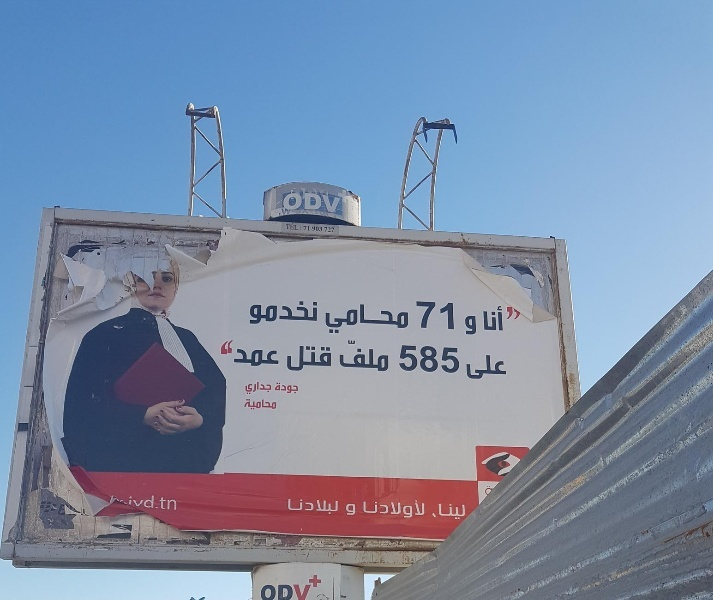text: (353, 340, 368, 373), (369, 340, 384, 373), (417, 301, 432, 331), (433, 301, 448, 331), (337, 304, 352, 334), (353, 304, 368, 334), (369, 304, 384, 334), (385, 304, 400, 334), (401, 345, 416, 375), (417, 345, 432, 375), (433, 345, 448, 375), (225, 339, 240, 368), (241, 339, 256, 368), (257, 339, 272, 368), (339, 340, 352, 373), (289, 345, 304, 372), (305, 345, 320, 372), (497, 306, 512, 332), (257, 301, 272, 326), (273, 301, 288, 326), (289, 301, 304, 326), (481, 355, 496, 380), (324, 304, 336, 334), (449, 345, 461, 375), (466, 355, 480, 380), (465, 314, 480, 337), (483, 306, 496, 332), (305, 301, 318, 326), (321, 345, 333, 372), (289, 193, 304, 213), (305, 193, 320, 213), (321, 193, 336, 213), (369, 500, 384, 519), (385, 500, 400, 519), (401, 500, 416, 519), (433, 503, 448, 521), (449, 503, 464, 521), (129, 495, 144, 512), (145, 495, 160, 512), (161, 495, 176, 512), (497, 355, 507, 380), (449, 301, 457, 331), (401, 304, 409, 334), (289, 499, 304, 515), (305, 499, 320, 515), (321, 499, 336, 515), (273, 584, 288, 600), (289, 584, 304, 600), (513, 306, 522, 332), (257, 382, 273, 395), (273, 339, 280, 368), (274, 382, 288, 395), (257, 399, 272, 411), (261, 584, 272, 600), (417, 500, 426, 519), (385, 340, 390, 373), (250, 301, 256, 326), (245, 382, 256, 395), (309, 575, 320, 588), (245, 399, 256, 411), (289, 382, 299, 395), (282, 193, 288, 213), (305, 584, 312, 600), (337, 193, 342, 213), (363, 500, 368, 519), (289, 223, 300, 231), (221, 339, 224, 368), (324, 227, 336, 234), (346, 504, 352, 516), (273, 399, 277, 411), (312, 227, 320, 232), (465, 503, 467, 521), (353, 504, 356, 516), (177, 495, 179, 512), (337, 499, 339, 515), (305, 226, 311, 231), (287, 345, 288, 372), (321, 575, 323, 588), (300, 226, 304, 232), (321, 227, 324, 232), (287, 223, 288, 231)
